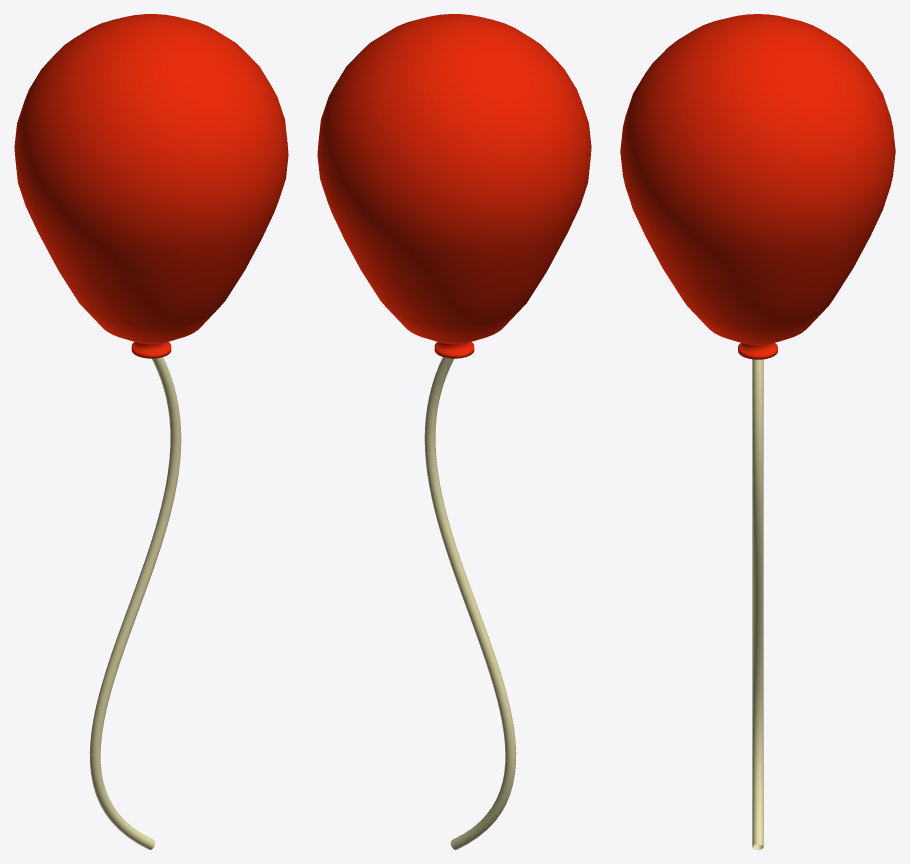
The model's file is balloon.fbx.
The picture shows the model from 3 angles, left to right: view 1: azimuth 30°, elevation 25°; view 2: azimuth 150°, elevation 25°; view 3: azimuth 270°, elevation 25°; orthographic projection.
Parts seen in each view (by area): view 1: Sphere, NurbsPath; view 2: Sphere, NurbsPath; view 3: Sphere, NurbsPath.
Part boxes in pixels (x1,y1,x2,y2): Sphere: (14,14,288,358); NurbsPath: (89,357,181,849); Sphere: (317,14,591,358); NurbsPath: (424,357,516,849); Sphere: (620,14,895,359); NurbsPath: (752,359,763,849).
Bounding box in the file's own units: 200 × 660 × 200.
